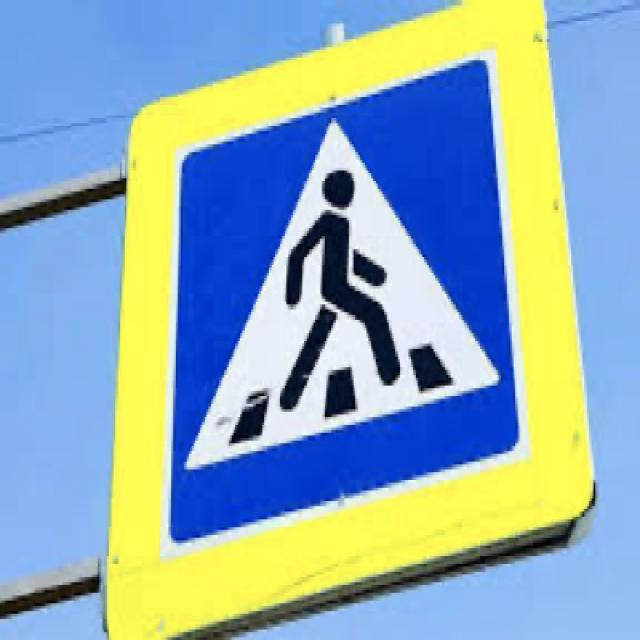crosswalk: (163, 47, 523, 548)
